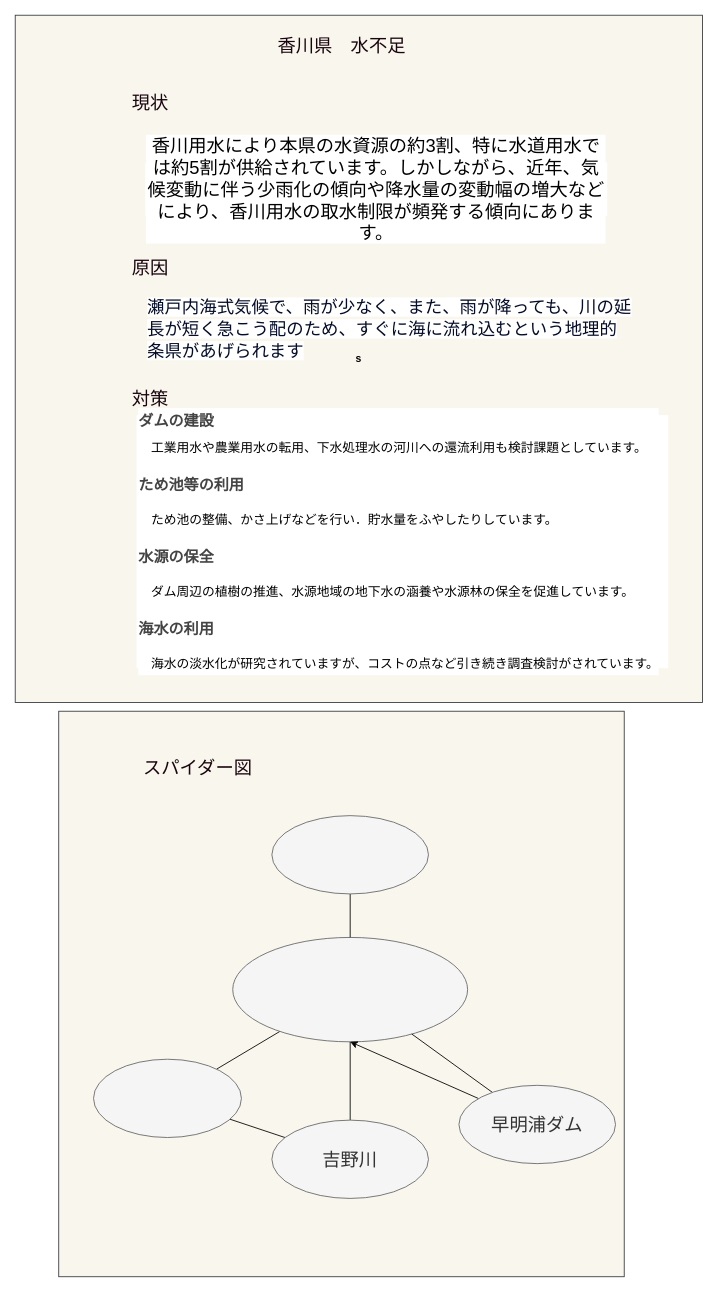
The diagram is 718 pixels wide and 1292 high, and some of its shapes have lost their labels. The centre of each missing label's shape, as x and y in pixels:
"瀬戸内海式気候" goes at pixel 349 854.
"香川 水不足" goes at pixel 350 989.
"香川用水" goes at pixel 167 1098.
